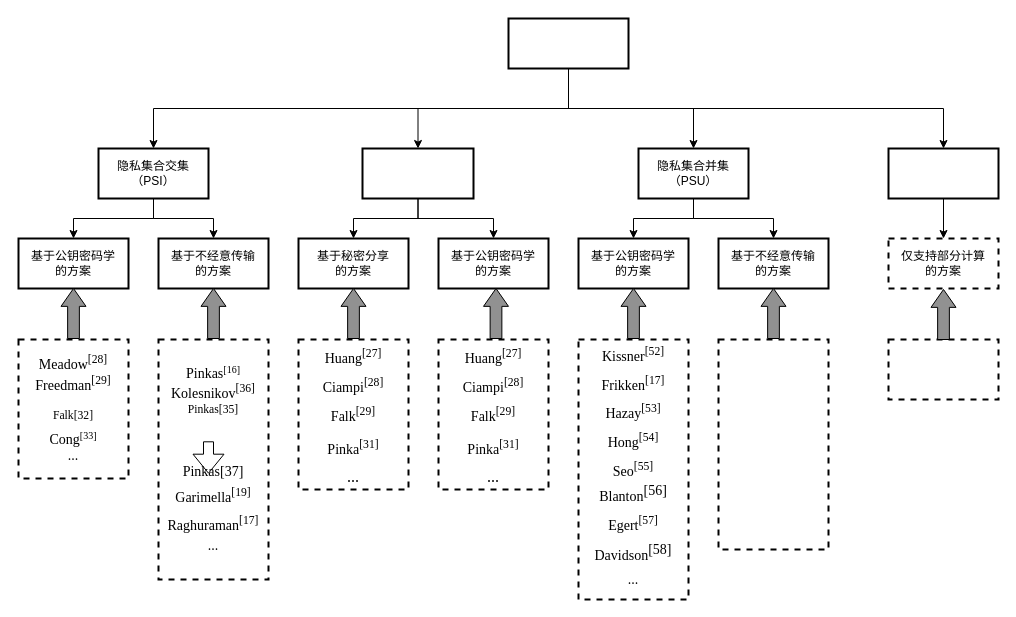
Image size: 1016x617. Some labels were removed from this diagram. Here are the shapes that lost their labels. From the top down, the box of each, then its label:
(507, 17, 629, 69): 隐私集合运算 （PSO）
(361, 147, 474, 199): 隐私集合交集运算（PCSI）
(887, 147, 999, 199): 隐私集合并集运算（PCSU）
(887, 338, 999, 400): Davidson [58] Chen [62]
(717, 338, 829, 550): Kolesnikov [59] Garimella [20] Jia [60] Zhang [61] Chen [62] Bienstock [43] ...
